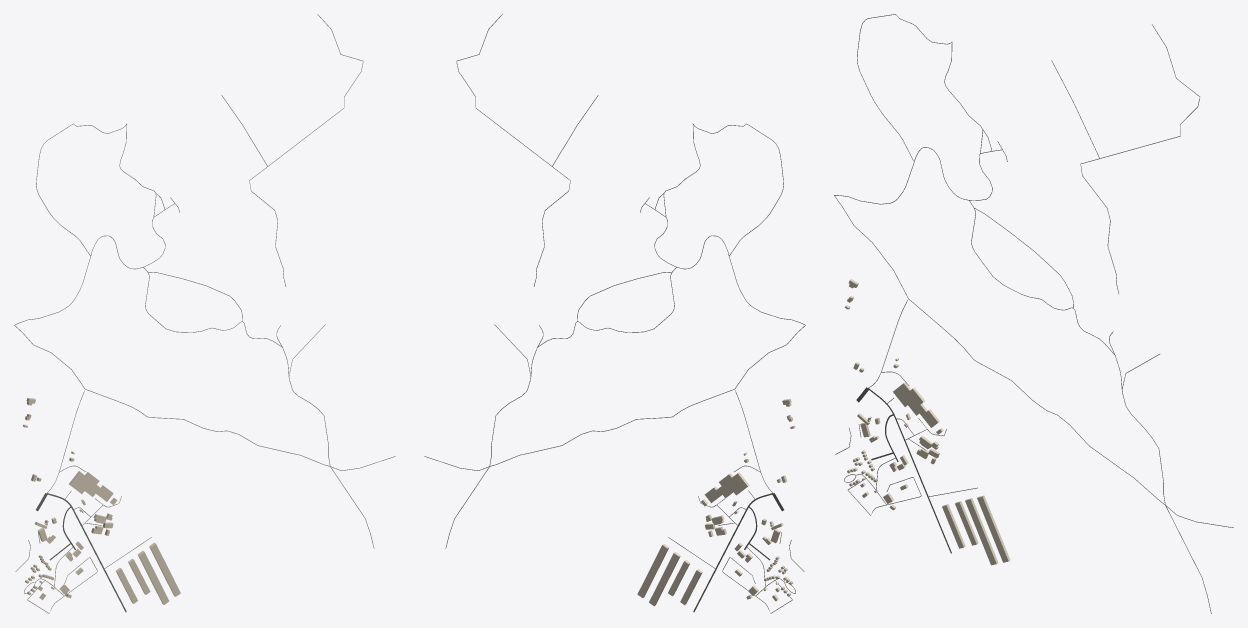
The model's file is historic-palestine-16_37_3575_3319.glb.
3 renders of one model, left to right at view 1: azimuth 30°, elevation 25°; view 2: azimuth 150°, elevation 25°; view 3: azimuth 330°, elevation 25°, orthographic. The views are drawn at different scales.
Parts seen in each view (by area): view 1: Building_.054; view 2: Building_.054; view 3: Building_.054, Building_.028, Building_.027.
Boxes of the visible parts, x1,y1,x2,y2 form: Building_.054: (69,471,113,501); Building_.054: (704,472,749,503); Building_.054: (893,382,939,427); Building_.028: (977,495,1010,562); Building_.027: (965,498,998,565).
Bounding box in the file's own units: 981 × 1360 × 8.7.
